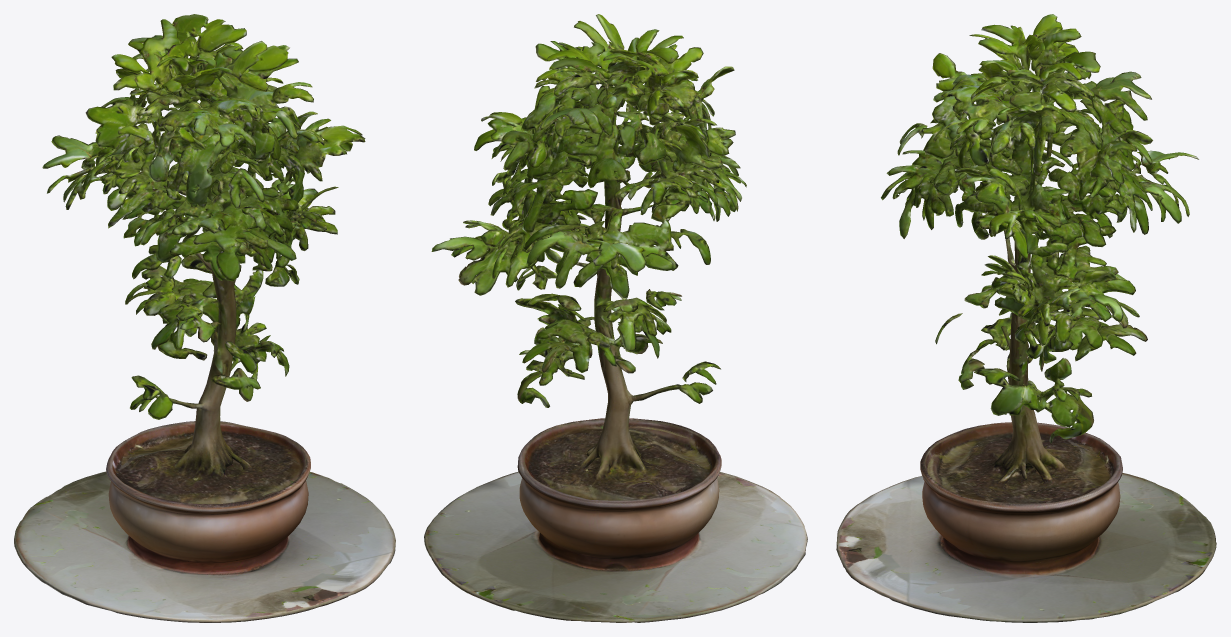
File: kapur.glb
3 views of the same model, side by side, from view 1: azimuth 30°, elevation 25°; view 2: azimuth 150°, elevation 25°; view 3: azimuth 270°, elevation 25° (orthographic).
Bounding box in the file's own units: 1.35 × 2 × 1.37.
1 material, 1 textured.
